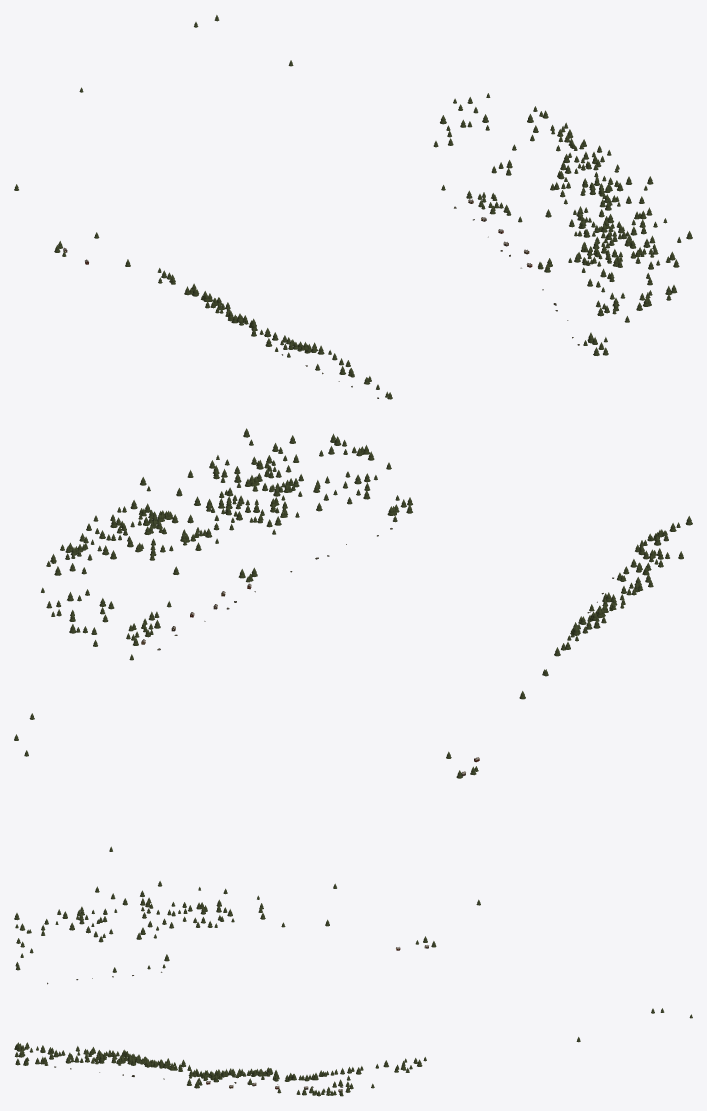
The model's file is fjord-shore.glb.
The picture shows the model from 3 angles, top to bottom: view 1: azimuth 30°, elevation 25°; view 2: azimuth 150°, elevation 25°; view 3: azimuth 270°, elevation 25°; orthographic projection. The views are drawn at different scales.
Visible parts, largest first — view 1: pines; view 2: pines; view 3: pines.
Boxes of the visible parts, box(x1,y1,x2,y2) form: pines: box(14, 15, 692, 399); pines: box(14, 428, 692, 851); pines: box(14, 881, 692, 1096).
Size of the model in its own units: 793 by 121 by 1180.
11 materials, 1 textured.
